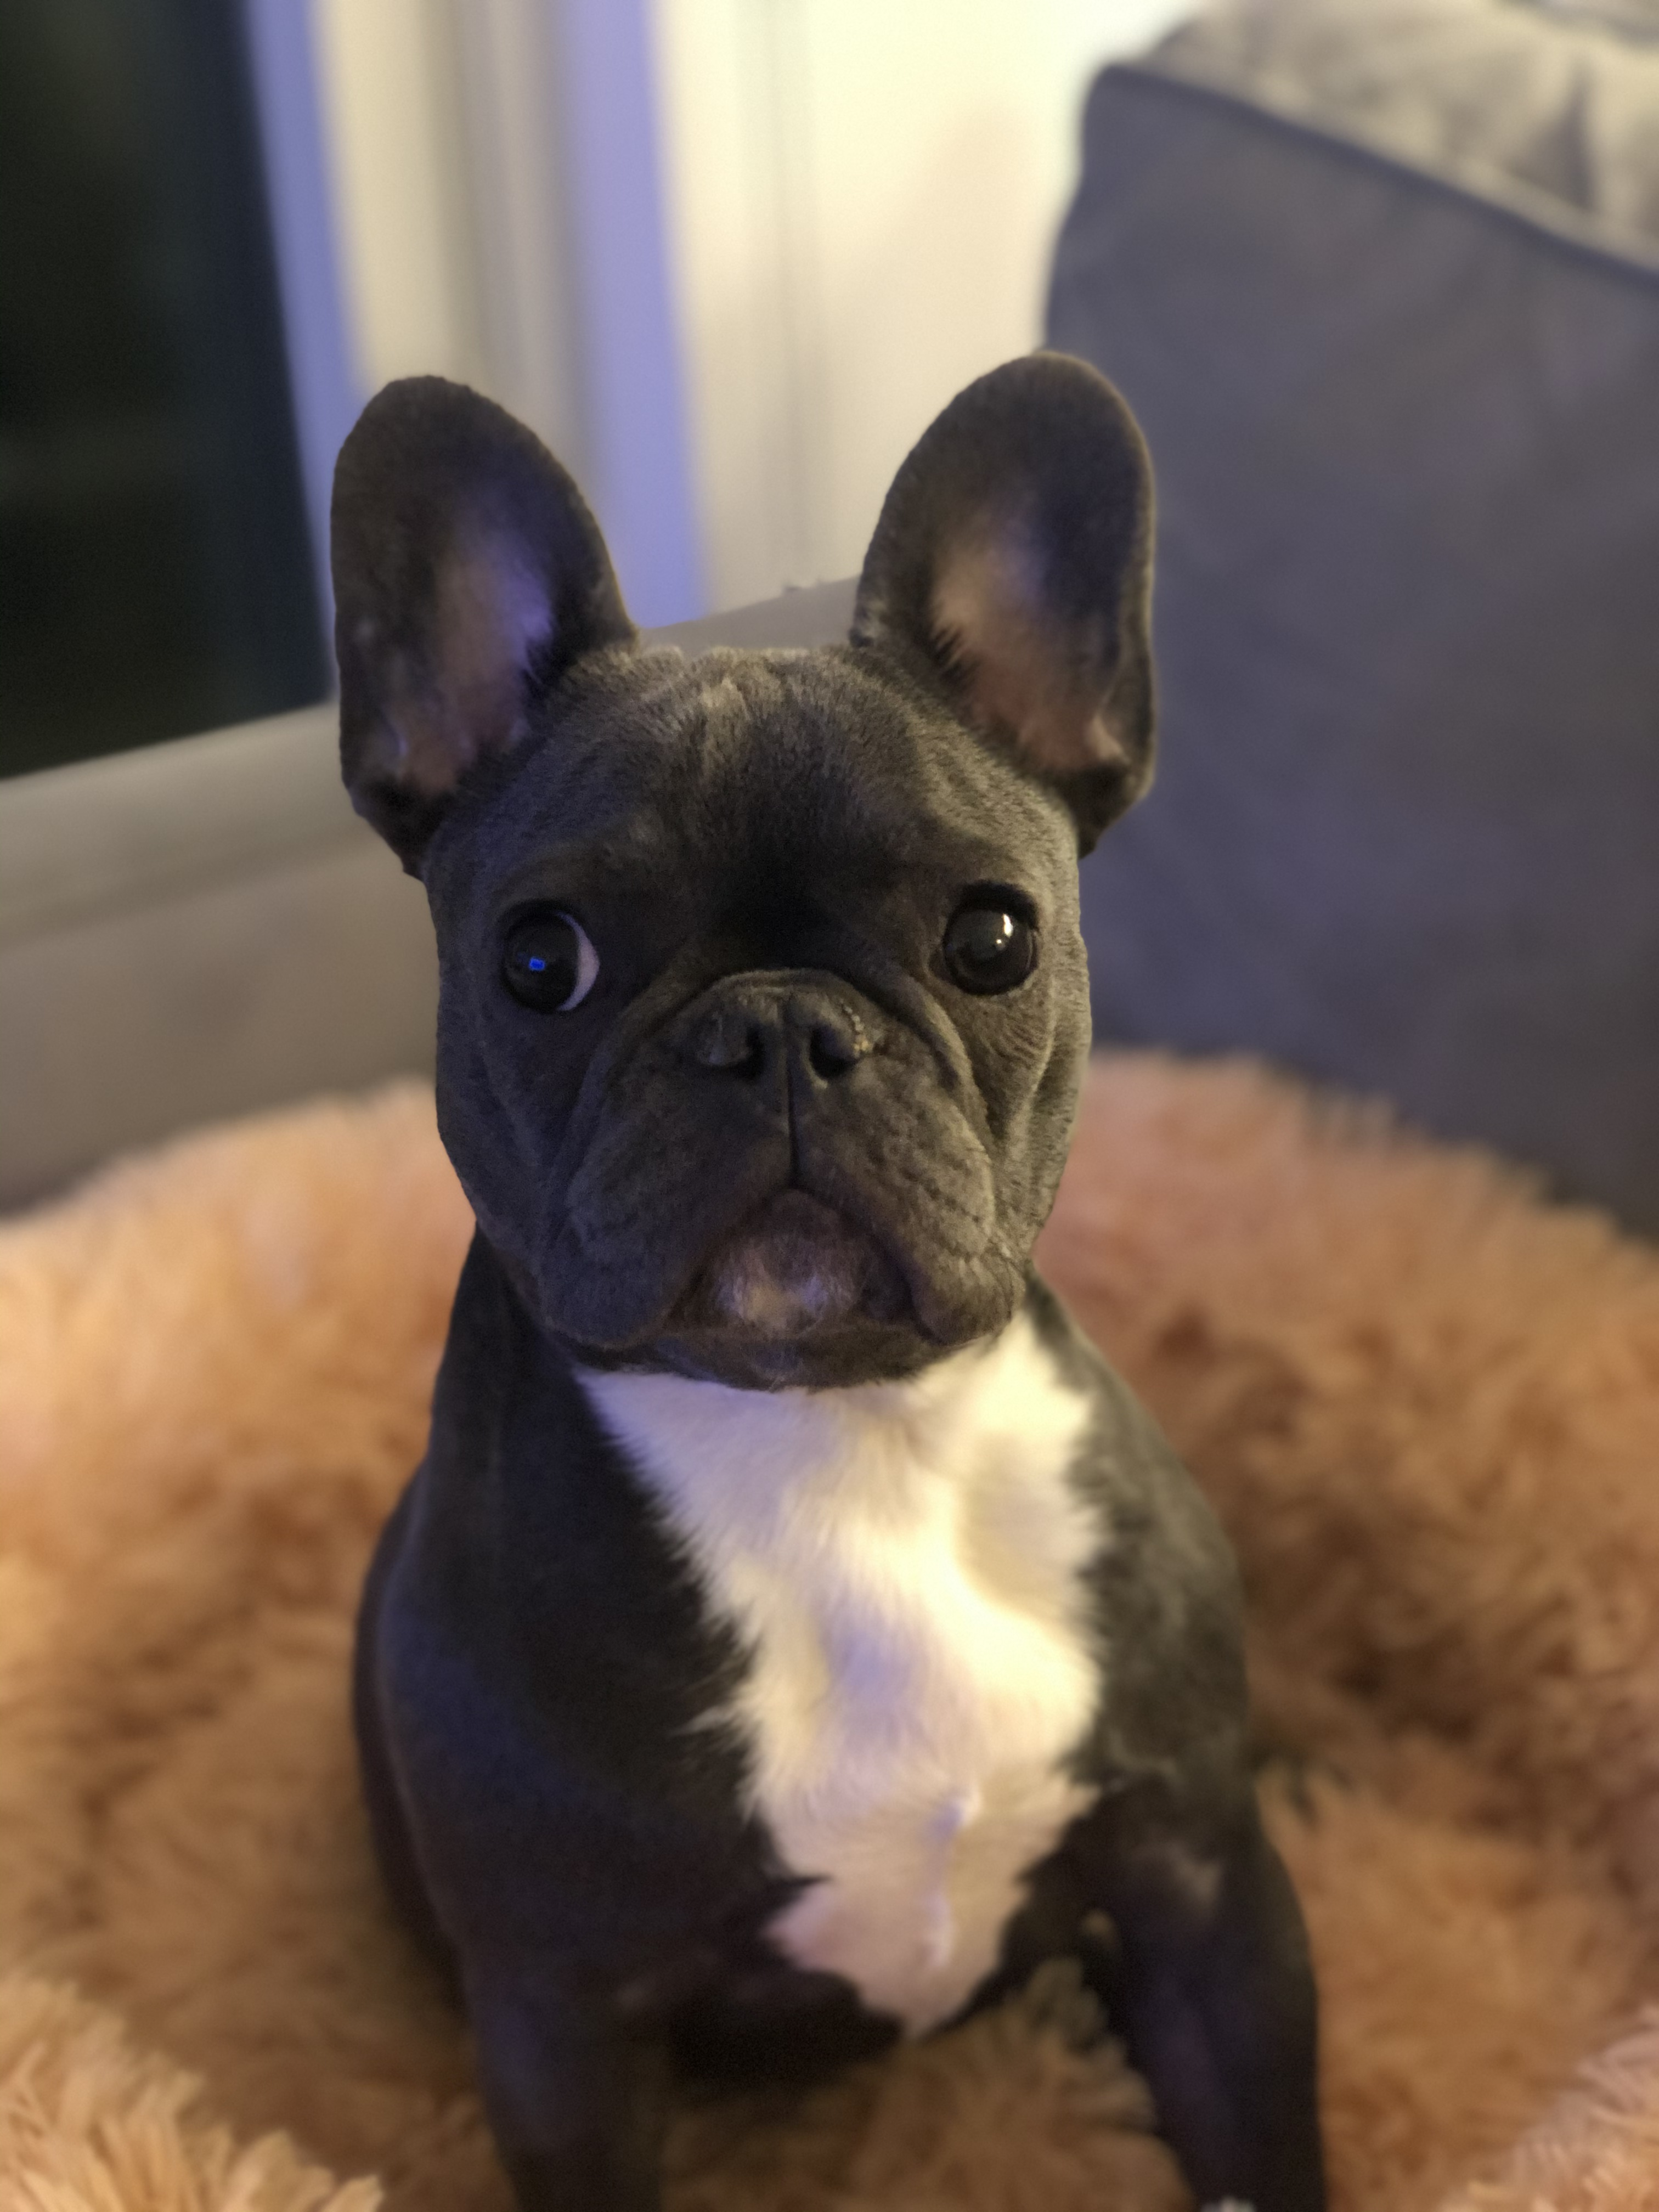lucy: (322, 347, 1358, 2205)
